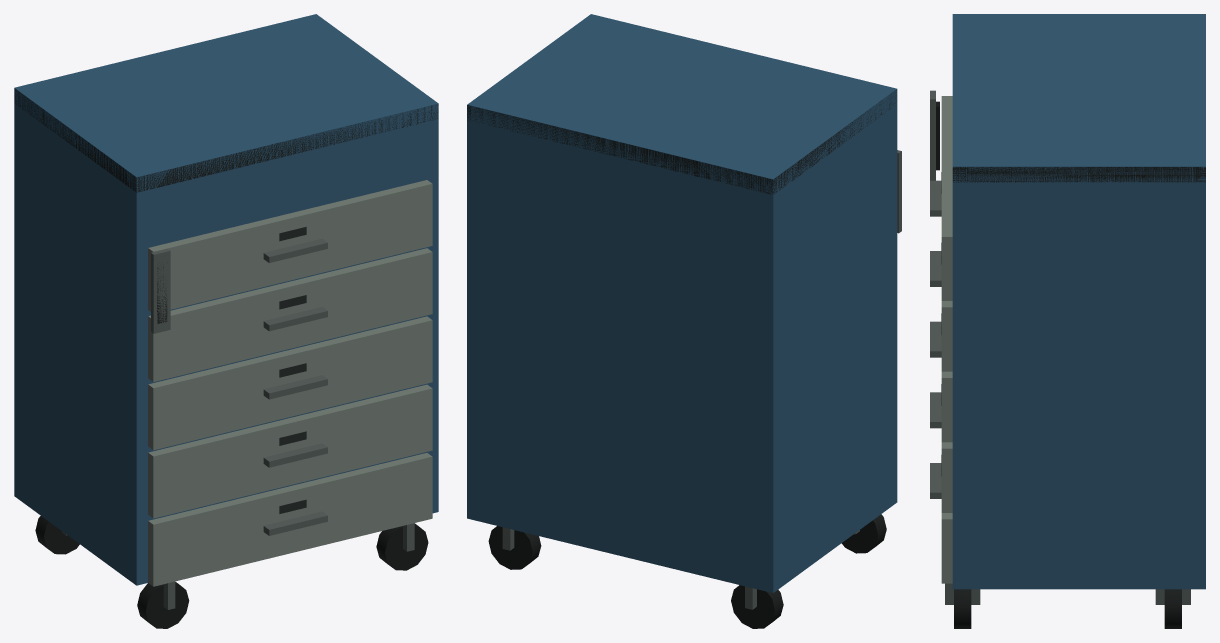
File: TL-CHEST-720_0.72x1.05x0.55m.glb
3 views of the same model, side by side, from view 1: azimuth 30°, elevation 25°; view 2: azimuth 150°, elevation 25°; view 3: azimuth 270°, elevation 25° (orthographic). The views are drawn at different scales.
Parts seen in each view (by area): view 1: ChestBody, Drawer_4, Drawer_5, Drawer_3, Drawer_2, Drawer_1, Worktop, SideHandleMount, CasterWheel_-1_1, CasterWheel_1_1, CasterWheel_-1_-1, DrawerPull_3 (+4 smaller); view 2: ChestBody, Worktop, CasterWheel_-1_-1, CasterWheel_1_-1, CasterWheel_-1_1; view 3: ChestBody, Worktop, Drawer_1, Drawer_3, Drawer_2, Drawer_4, Drawer_5, CasterWheel_1_-1, CasterWheel_1_1, SideHandleMount, DrawerPull_4, DrawerPull_1 (+3 smaller).
Part boxes in pixels (box(x1,y1,x2,y2)): ChestBody: box(14, 14, 438, 585); Drawer_4: box(148, 384, 432, 518); Drawer_5: box(148, 453, 432, 586); Drawer_3: box(148, 316, 432, 450); Drawer_2: box(148, 248, 432, 381); Drawer_1: box(148, 180, 432, 311); Worktop: box(14, 89, 438, 192); SideHandleMount: box(151, 248, 170, 333); CasterWheel_-1_1: box(137, 582, 189, 628); CasterWheel_1_1: box(376, 523, 428, 570); CasterWheel_-1_-1: box(35, 516, 79, 554); DrawerPull_3: box(263, 375, 327, 399); ChestBody: box(467, 14, 897, 592); Worktop: box(467, 93, 897, 194); CasterWheel_-1_-1: box(731, 585, 783, 628); CasterWheel_1_-1: box(488, 526, 541, 569); CasterWheel_-1_1: box(841, 514, 886, 553); ChestBody: box(952, 14, 1205, 589); Worktop: box(952, 167, 1205, 182); Drawer_1: box(941, 96, 952, 300); Drawer_3: box(941, 371, 952, 442); Drawer_2: box(941, 301, 952, 371); Drawer_4: box(941, 442, 952, 512); Drawer_5: box(941, 513, 952, 583); CasterWheel_1_-1: box(1164, 589, 1181, 628); CasterWheel_1_1: box(954, 589, 971, 628); SideHandleMount: box(930, 90, 935, 180); DrawerPull_4: box(930, 392, 941, 428); DrawerPull_1: box(930, 180, 941, 216).
Size of the model in its own units: 0.72 by 1.05 by 0.55.
